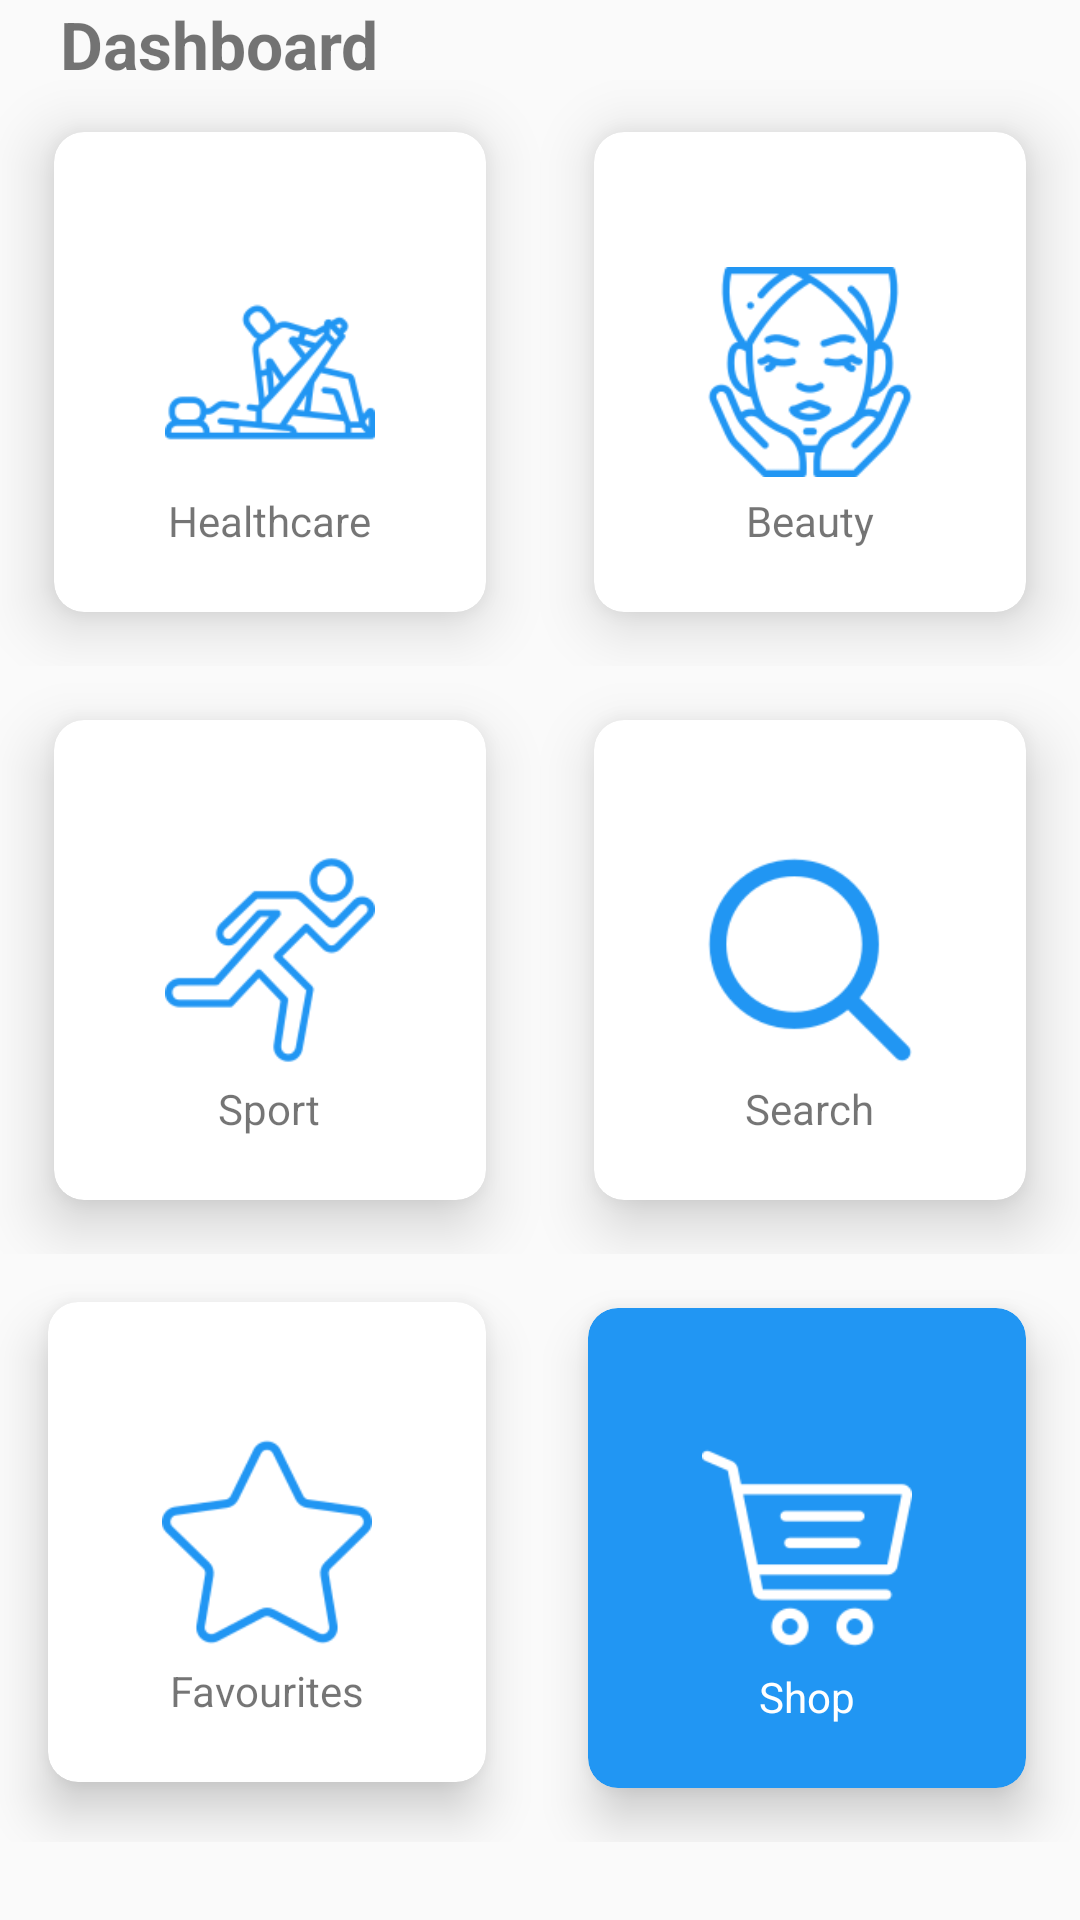

Locate icon controls on the screen. Image size 1080w x 1920h, boxes as (x1=x1, y1=y1, x2=x2, y2=y2).
facial treatment: (x1=708, y1=267, x2=912, y2=477)
magnifying glass: (x1=708, y1=858, x2=912, y2=1062)
running: (x1=165, y1=858, x2=375, y2=1062)
star: (x1=162, y1=1440, x2=372, y2=1644)
